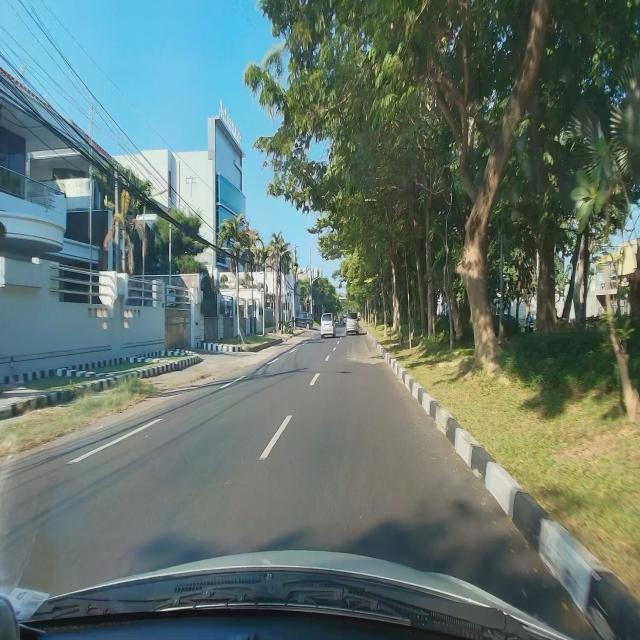car: (320, 312, 336, 340), (346, 312, 359, 336)
